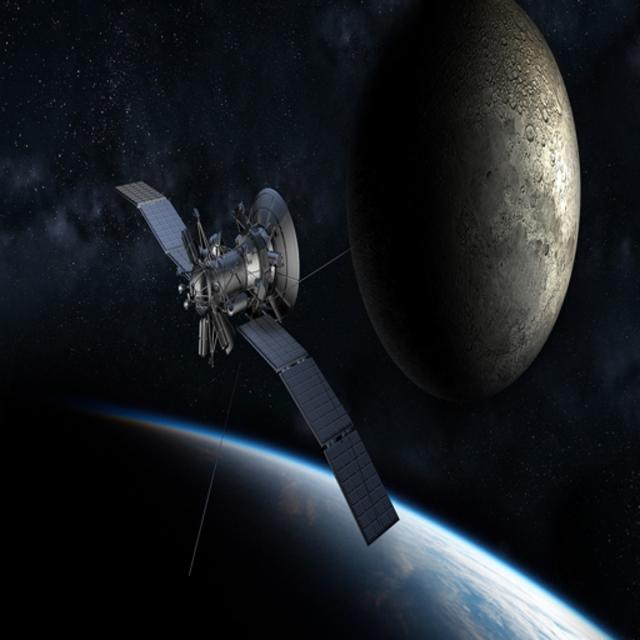medium_debris: (110, 148, 408, 552)
